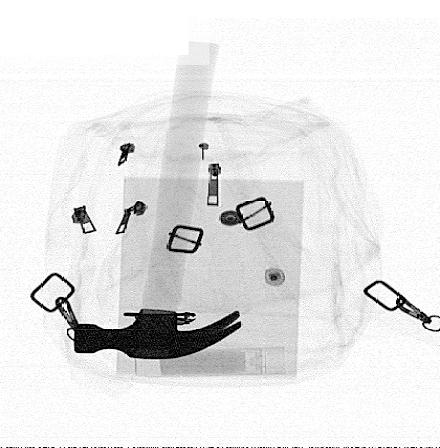Hammer: (74, 42, 241, 360)
